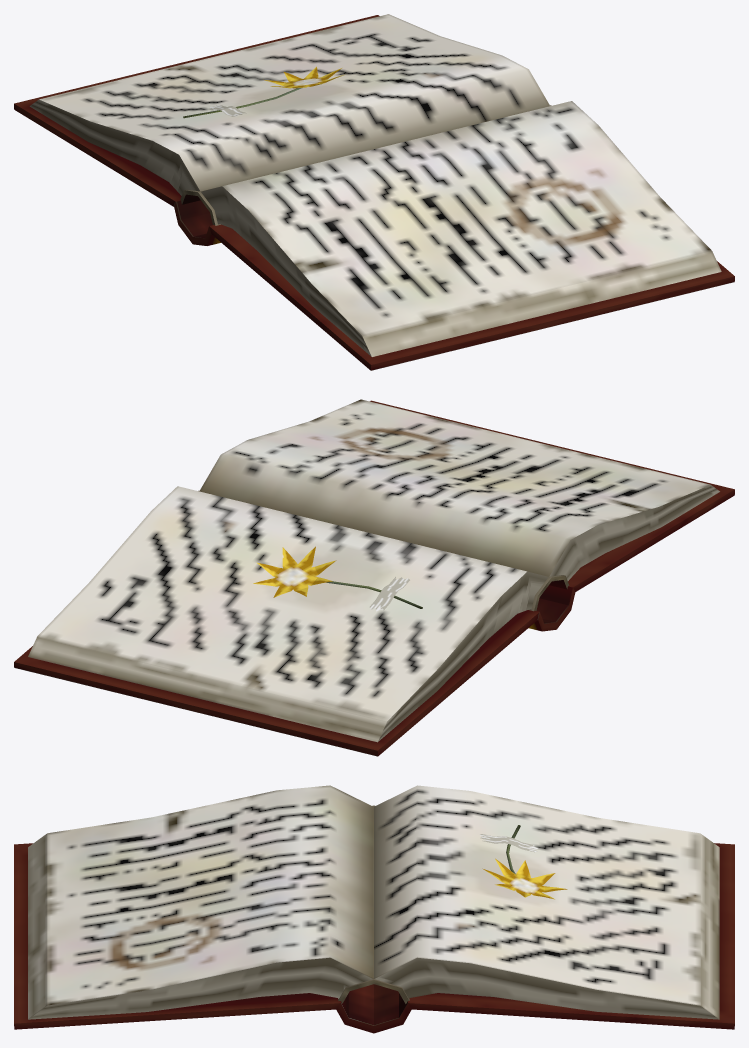
File: Book.fbx
3 views of the same model, one above another, from view 1: azimuth 30°, elevation 25°; view 2: azimuth 150°, elevation 25°; view 3: azimuth 270°, elevation 25° (orthographic).
Visible parts, largest first — view 1: Book; view 2: Book; view 3: Book.
Boxes of the visible parts, <box> form: Book: <box>14,14,734,370</box>; Book: <box>14,399,734,756</box>; Book: <box>14,785,734,1033</box>.
Size of the model in its own units: 1.12 by 0.228 by 1.91.
